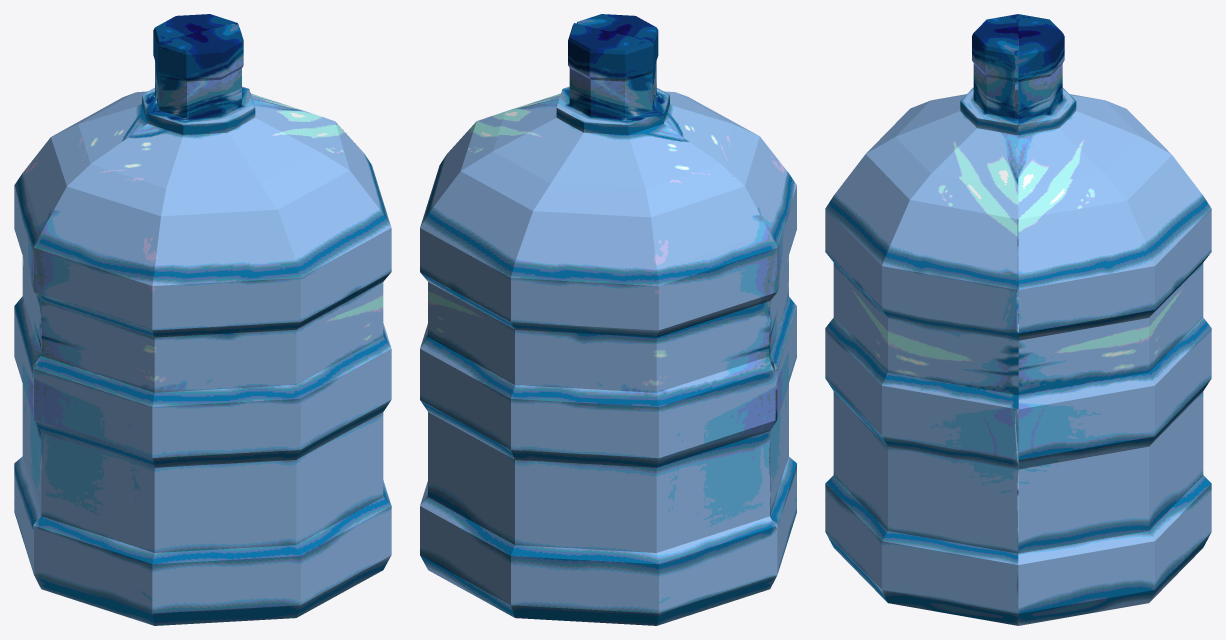
Rendered from Garrafao.fbx.
3 views of the same model, side by side, from view 1: azimuth 30°, elevation 25°; view 2: azimuth 150°, elevation 25°; view 3: azimuth 270°, elevation 25° (orthographic).
Parts seen in each view (by area): view 1: Cylinder; view 2: Cylinder; view 3: Cylinder.
Boxes of the visible parts, x1,y1,x2,y2 form: Cylinder: (14,14,391,625); Cylinder: (420,14,796,625); Cylinder: (825,14,1211,625).
Bounding box in the file's own units: 50.02 × 74.65 × 50.02.
Materials: 1 (1 with a texture image).
